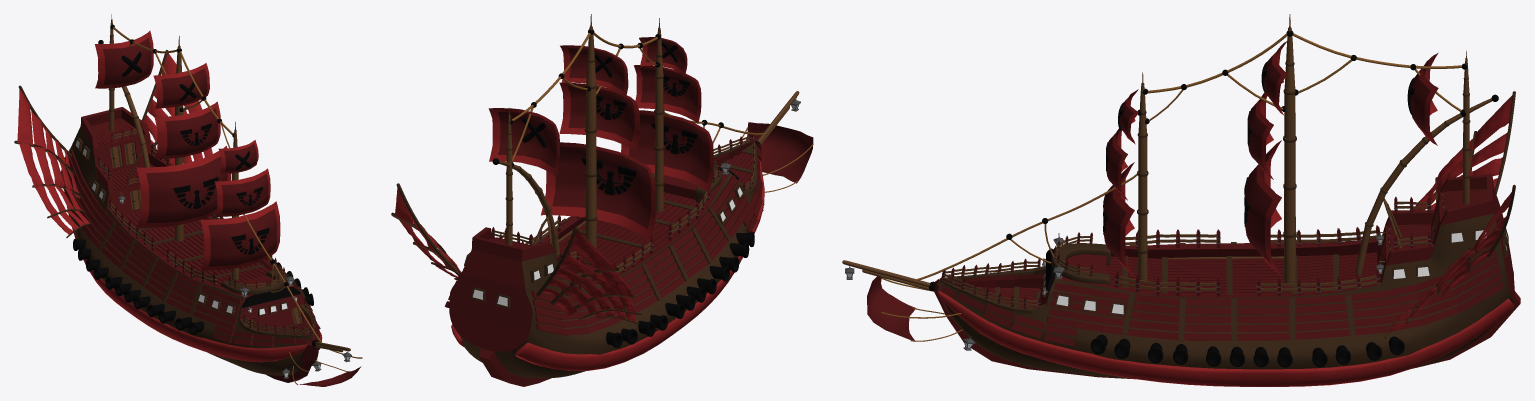
The model's file is ship_12.glb.
3 renders of one model, left to right at view 1: azimuth 30°, elevation 25°; view 2: azimuth 150°, elevation 25°; view 3: azimuth 270°, elevation 25°, orthographic. The views are drawn at different scales.
Visible parts, largest first — view 1: Cube, Cube.059, Cylinder.006, Cube.008, Plane.003, Cube.067, Plane.002, cannon.008, Plane.004, Cube.021, Plane.005, Plane.010 (+31 smaller); view 2: Cube, Cube.059, Cylinder.006, Cube.008, Plane.003, Cube.067, Plane.002, cannon.008, Plane, Cylinder.009, Cube.047, Plane.004 (+24 smaller); view 3: Cube.059, Cube.008, Cube, Cube.067, Cube.021, Cylinder.006, Cube.047, cannon.008, Cube.009, Cylinder.009, Cube.119, Cylinder.011 (+23 smaller).
Part boxes in pixels (<box>): Cube: <box>80,107,319,382</box>; Cube.059: <box>60,150,309,330</box>; Cylinder.006: <box>17,53,212,234</box>; Cube.008: <box>64,145,318,375</box>; Plane.003: <box>146,156,227,223</box>; Cube.067: <box>64,192,322,362</box>; Plane.002: <box>208,209,276,266</box>; cannon.008: <box>73,238,313,334</box>; Plane.004: <box>165,108,217,155</box>; Cube.021: <box>80,232,215,341</box>; Plane.005: <box>103,38,151,84</box>; Plane.010: <box>136,146,231,227</box>; Cube: <box>449,141,762,386</box>; Cube.059: <box>444,175,751,335</box>; Cylinder.006: <box>395,187,636,321</box>; Cube.008: <box>454,145,757,378</box>; Plane.003: <box>552,146,651,228</box>; Cube.067: <box>451,157,764,370</box>; Plane.002: <box>628,114,709,182</box>; cannon.008: <box>606,231,754,347</box>; Plane: <box>745,122,813,183</box>; Cylinder.009: <box>585,14,596,262</box>; Cube.047: <box>559,219,677,268</box>; Plane.004: <box>568,86,634,141</box>; Cube.059: <box>1046,241,1504,340</box>; Cube.008: <box>938,240,1513,379</box>; Cube: <box>934,174,1520,378</box>; Cube.067: <box>938,268,1513,386</box>; Cube.021: <box>1074,330,1411,369</box>; Cylinder.006: <box>1388,95,1513,333</box>; Cube.047: <box>1167,258,1291,295</box>; cannon.008: <box>1090,334,1404,367</box>; Cube.009: <box>1377,213,1500,308</box>; Cylinder.009: <box>1284,14,1295,283</box>; Cube.119: <box>1118,230,1377,291</box>; Cylinder.011: <box>1138,72,1147,280</box>.
Size of the model in its own units: 4.36 by 6.17 by 10.44.
